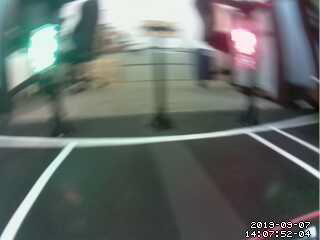Left_Right_sign: (139, 21, 178, 35)
Traffic_light_green: (28, 33, 58, 65)
Traffic_light_red: (231, 25, 257, 65)
